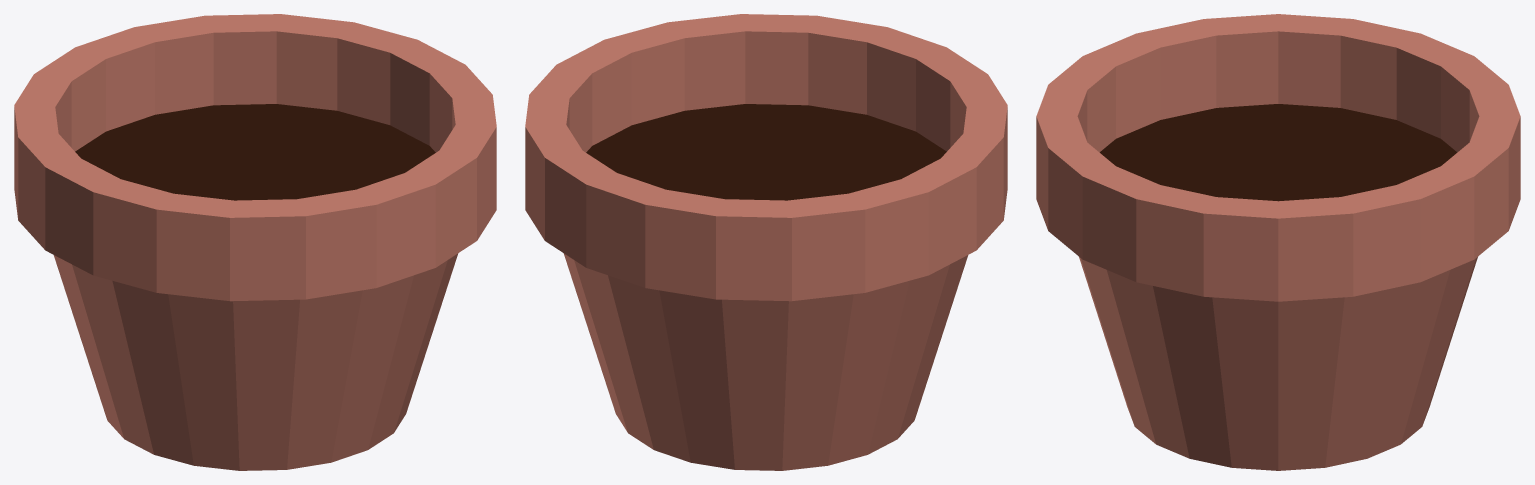
Rendered from pot3.glb.
3 views of the same model, side by side, from view 1: azimuth 30°, elevation 25°; view 2: azimuth 150°, elevation 25°; view 3: azimuth 270°, elevation 25° (orthographic).
Parts seen in each view (by area): view 1: Cylinder; view 2: Cylinder; view 3: Cylinder.
Part boxes in pixels (x1,y1,x2,y2): Cylinder: (14,14,496,470); Cylinder: (525,14,1007,470); Cylinder: (1036,14,1520,470).
Size of the model in its own units: 0.6918 by 0.4584 by 0.6918.
